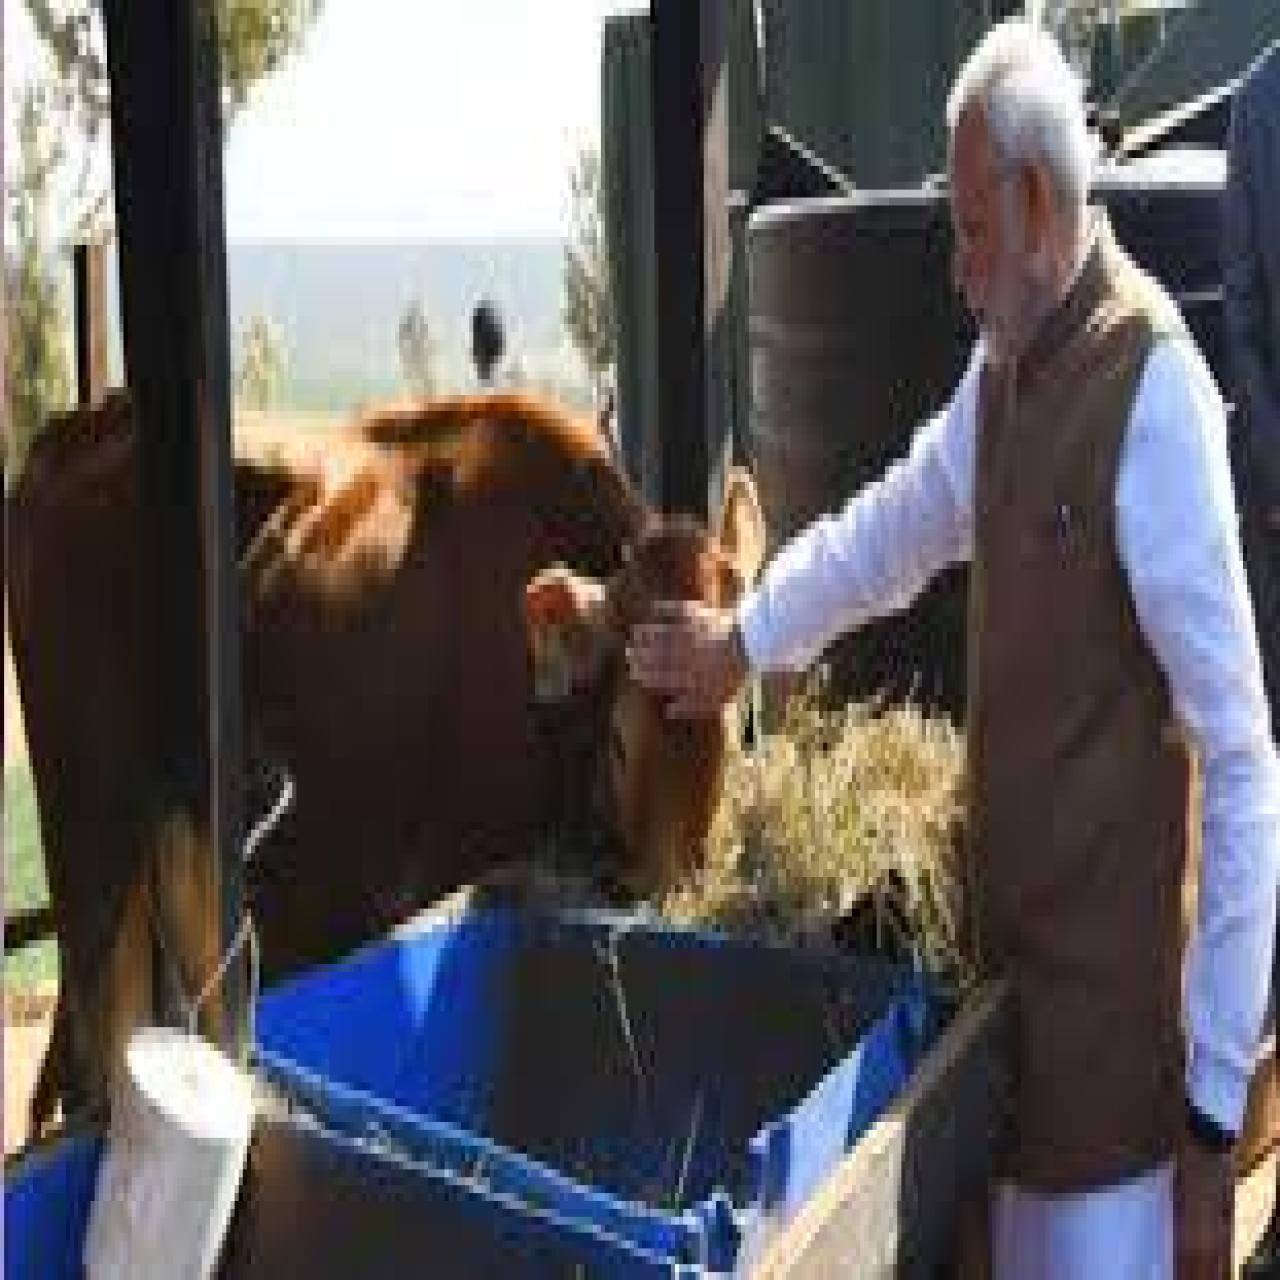cow: (5, 375, 765, 1133)
